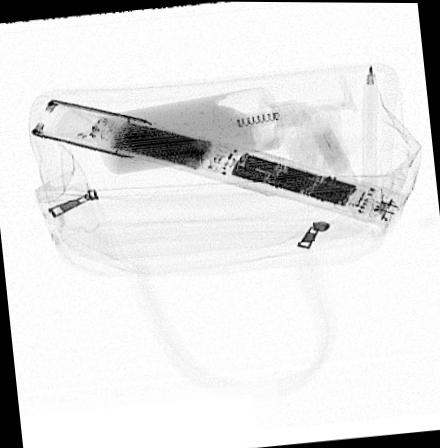Baton: (29, 97, 405, 226)
